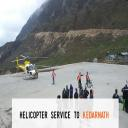helicopter: (12, 50, 52, 83)
